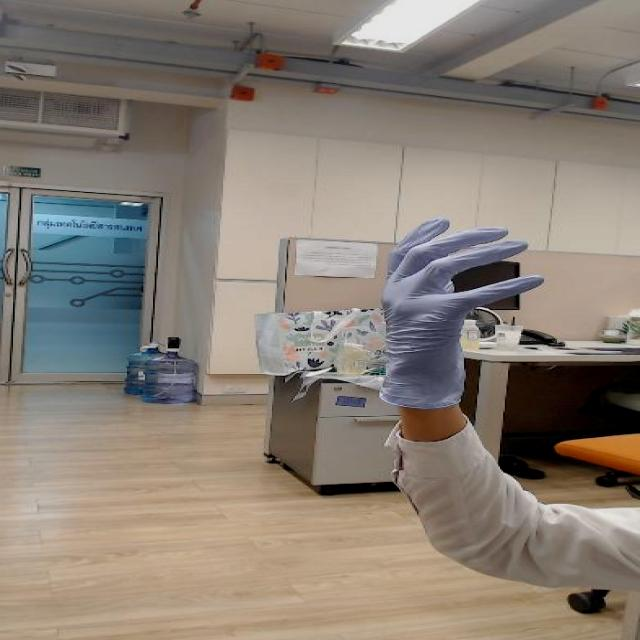glove: (346, 210, 550, 393)
